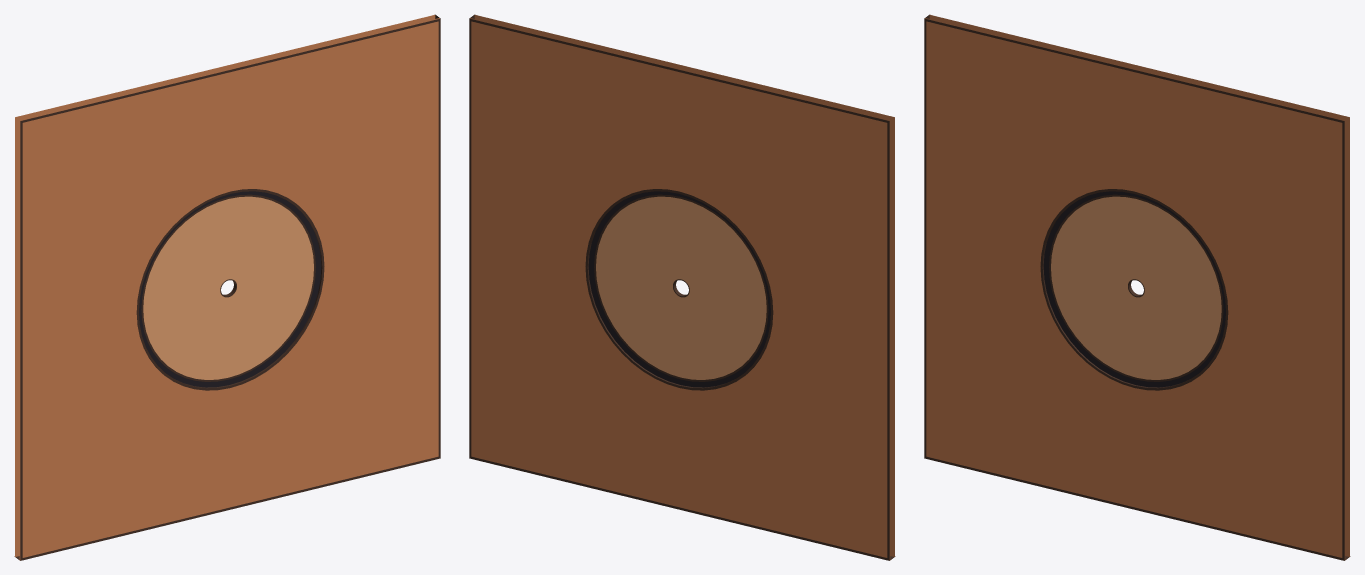
The model's file is Orange.obj.
3 renders of one model, left to right at view 1: azimuth 30°, elevation 25°; view 2: azimuth 150°, elevation 25°; view 3: azimuth 330°, elevation 25°, orthographic.
Parts seen in each view (by area): view 1: Sleeve, Record; view 2: Sleeve, Record; view 3: Sleeve, Record.
Part boxes in pixels (x1,y1,x2,y2): Sleeve: (14, 14, 440, 560); Record: (139, 191, 321, 387); Sleeve: (469, 14, 895, 560); Record: (588, 191, 770, 387); Sleeve: (924, 14, 1350, 560); Record: (1043, 191, 1225, 387).
Size of the model in its own units: 0.188 by 0.188 by 0.0048.
